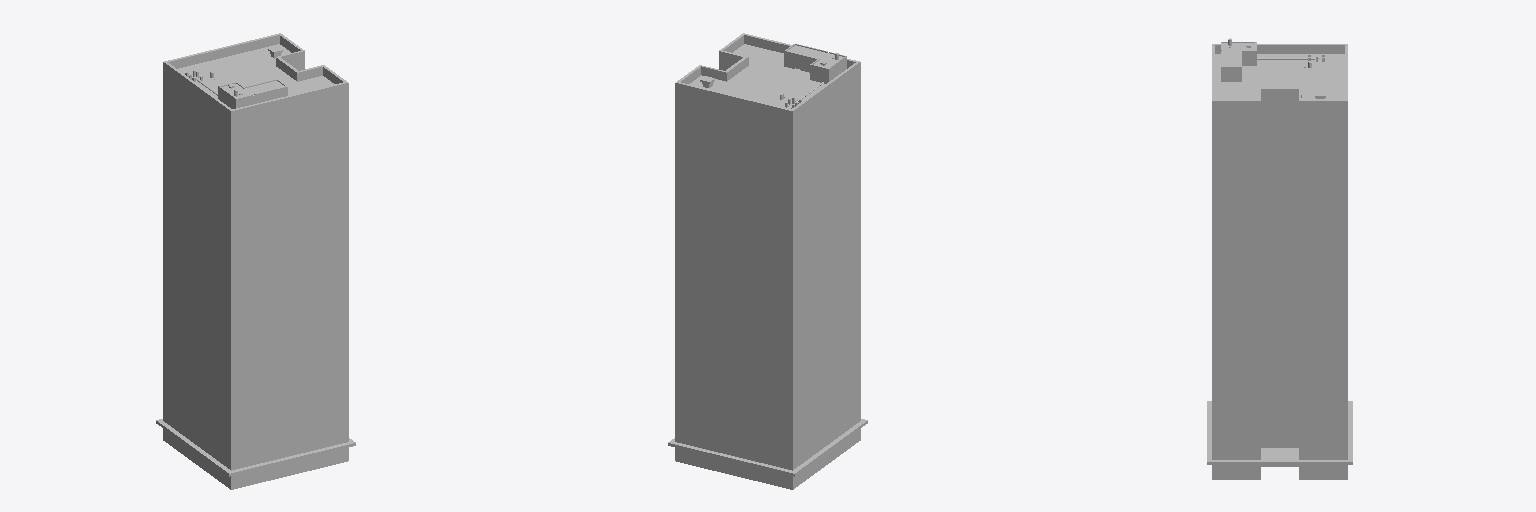
Rendered from budynek1.obj.
3 views of the same model, side by side, from view 1: azimuth 30°, elevation 25°; view 2: azimuth 150°, elevation 25°; view 3: azimuth 270°, elevation 25° (orthographic).
Visible parts, largest first — view 1: Cube.004_Cube.014; view 2: Cube.004_Cube.014; view 3: Cube.004_Cube.014.
Part boxes in pixels (x1,y1,x2,y2): Cube.004_Cube.014: (156, 33, 355, 489); Cube.004_Cube.014: (668, 33, 867, 489); Cube.004_Cube.014: (1207, 38, 1352, 479).
Size of the model in its own units: 2.16 by 6.35 by 2.16.